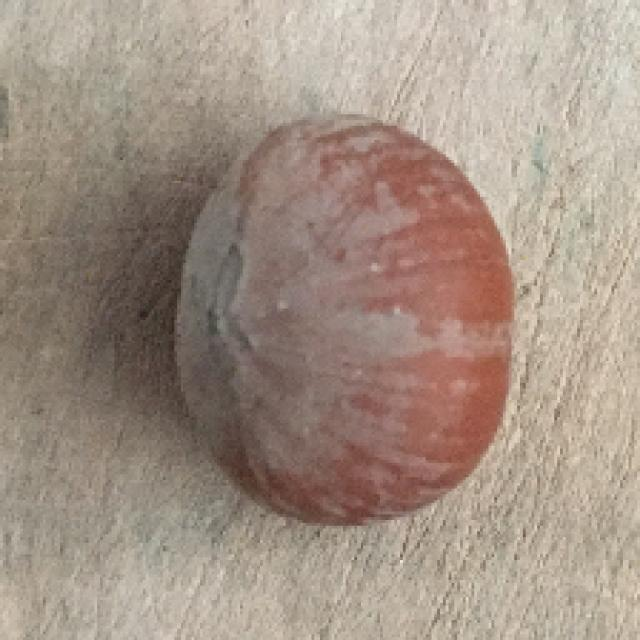qualityHazelnut: (166, 111, 520, 529)
